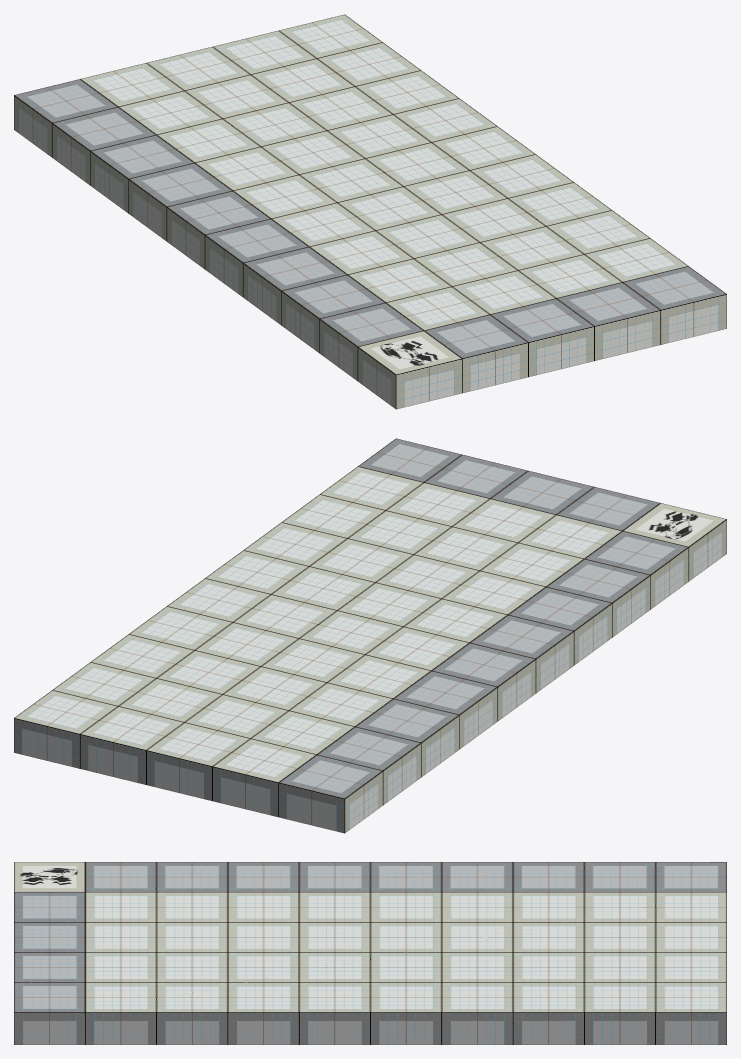
The model's file is Brick Flat 10x5.fbx.
The picture shows the model from 3 angles, top to bottom: view 1: azimuth 30°, elevation 25°; view 2: azimuth 150°, elevation 25°; view 3: azimuth 270°, elevation 25°; orthographic projection. The views are drawn at different scales.
Visible parts, largest first — view 1: Cube; view 2: Cube; view 3: Cube.
Part boxes in pixels (<box>): Cube: <box>14,14,726,409</box>; Cube: <box>14,438,726,833</box>; Cube: <box>14,862,726,1044</box>.
Size of the model in its own units: 500 by 50 by 1000.
